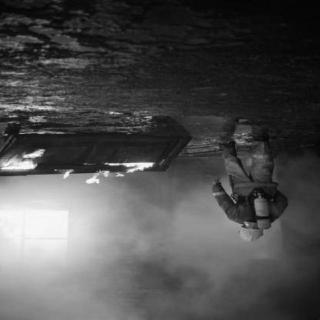Fire: (1, 152, 163, 190), (1, 205, 75, 263)
